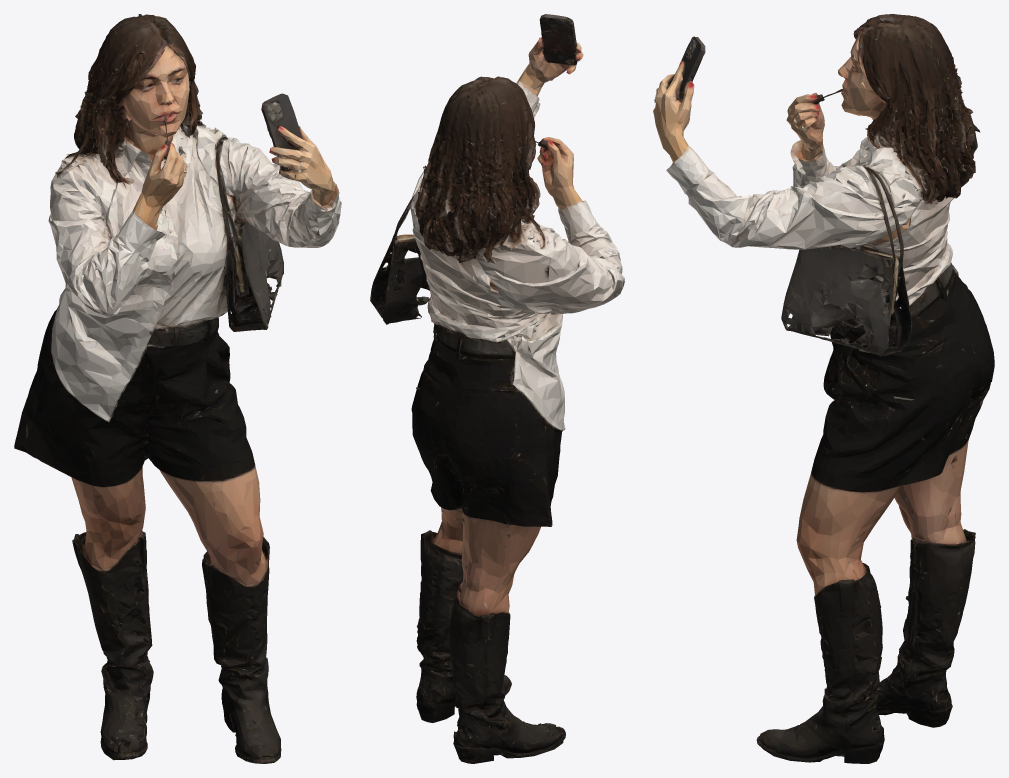
3 renders of one model, left to right at view 1: azimuth 30°, elevation 25°; view 2: azimuth 150°, elevation 25°; view 3: azimuth 270°, elevation 25°, orthographic. The views are drawn at different scales.
Visible parts, largest first — view 1: phakie_240124-Diana_Weisman_100k.001; view 2: phakie_240124-Diana_Weisman_100k.001; view 3: phakie_240124-Diana_Weisman_100k.001.
Boxes of the visible parts, x1,y1,x2,y2 form: phakie_240124-Diana_Weisman_100k.001: (14, 14, 341, 763); phakie_240124-Diana_Weisman_100k.001: (370, 14, 624, 763); phakie_240124-Diana_Weisman_100k.001: (653, 14, 994, 763).
Size of the model in its own units: 556 by 1569 by 689.
1 material, 1 textured.
